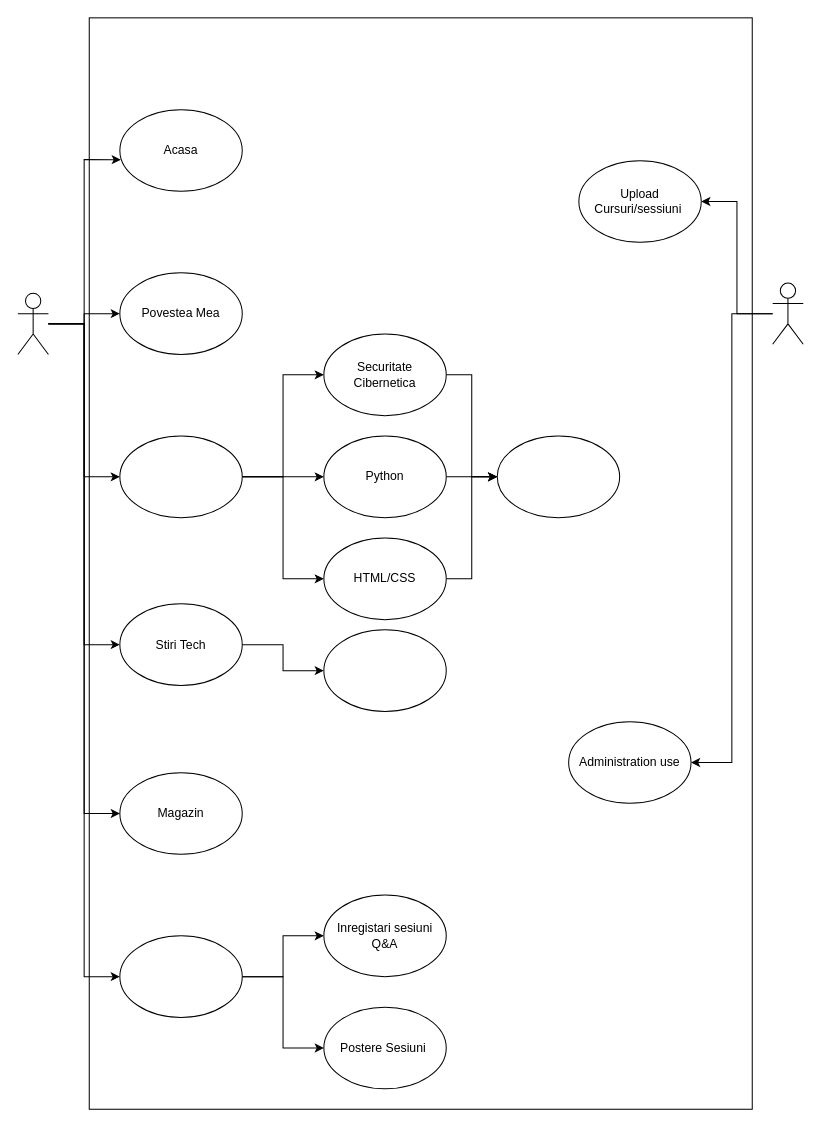
Some shapes in this 823 by 1127 pixel diagram are drawn without their labels. The shapes that lost their labels are listed below. From the top down, each one's centre as x and y in pixels, then its label:
At point 32,323: "User".
At point 787,313: "Admin".
At point 180,476: "Cursuri".
At point 558,476: "Inscriete".
At point 384,670: "Abonezata".
At point 180,976: "Sesuni Live Q&A".
